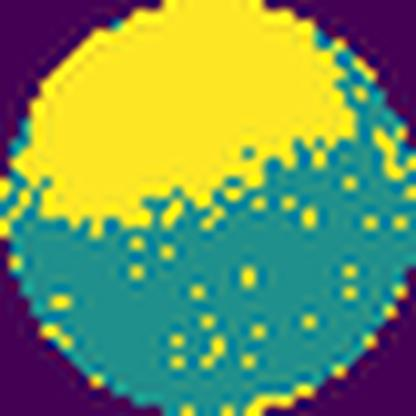Edge-Loc: (0, 0, 361, 229)
